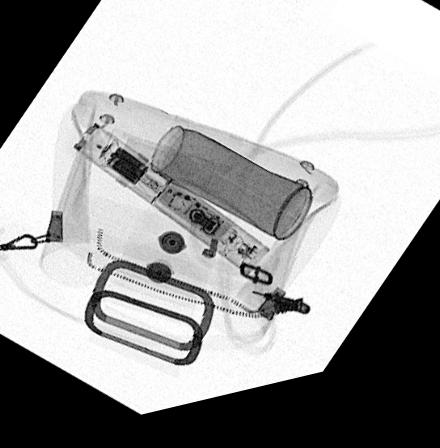Baton: (69, 123, 272, 288)
